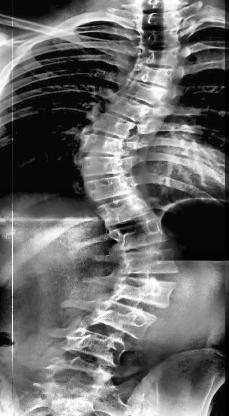Vertebrae: (90, 298, 158, 340), (42, 354, 114, 390), (59, 326, 127, 364), (112, 274, 174, 312), (93, 194, 156, 228), (110, 219, 172, 253), (118, 250, 180, 280), (82, 173, 142, 201), (76, 152, 132, 178), (104, 93, 154, 121), (87, 112, 136, 140), (120, 80, 168, 107), (128, 63, 176, 87), (136, 26, 184, 48), (80, 134, 128, 156), (136, 47, 182, 69), (133, 11, 183, 29)
